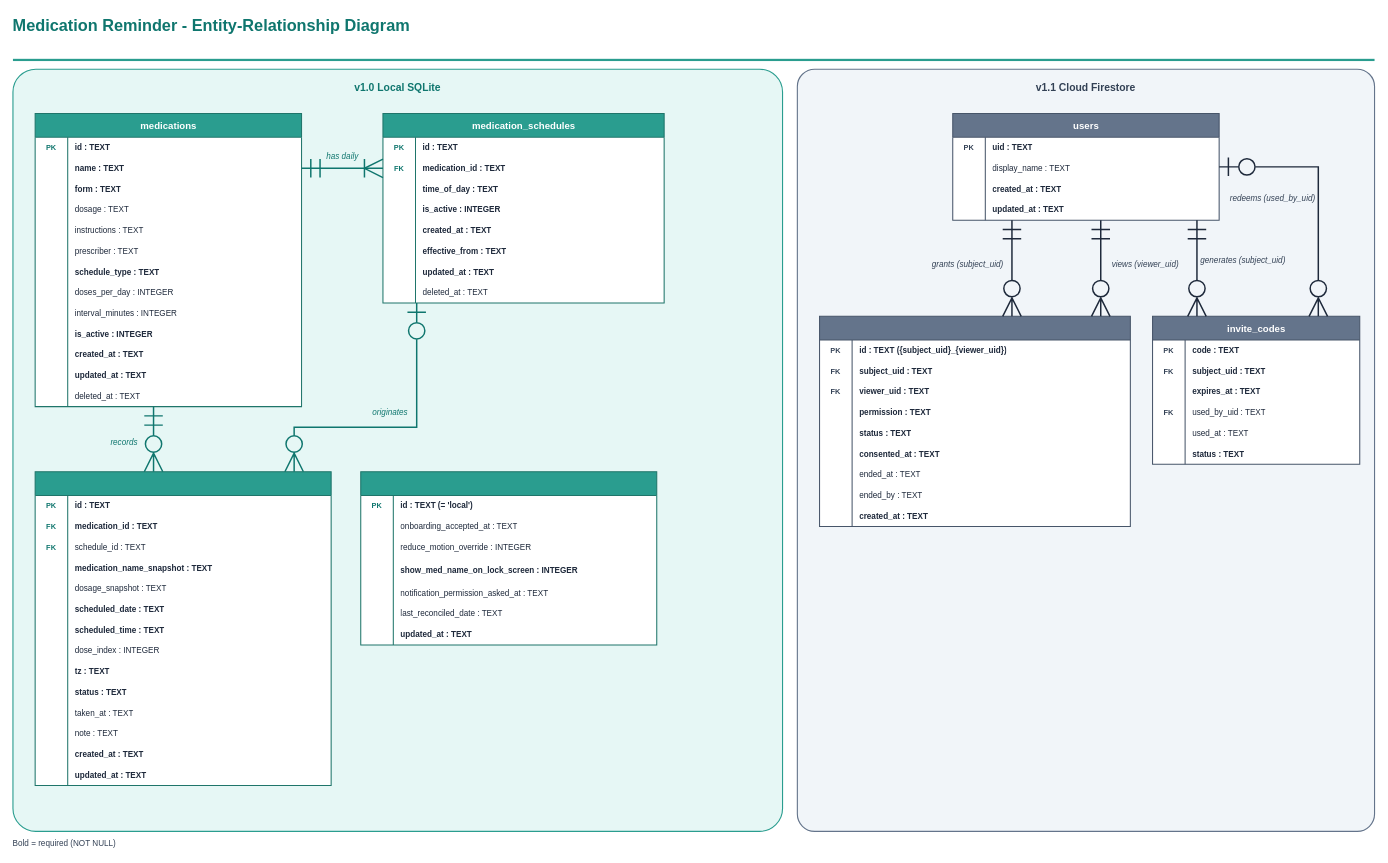
Image size: 1388x863. Some labels were removed from this diagram. Each missing label, with the box of its shape:
app_settings: (360, 471, 657, 645)
caregiver_links: (819, 315, 1130, 527)
dose_logs: (34, 471, 331, 786)
